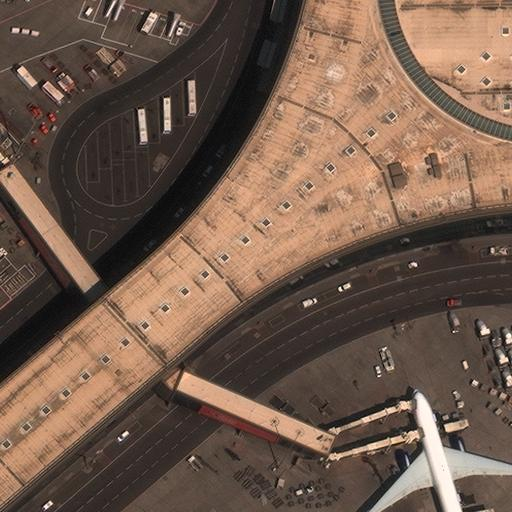Large Civil Transport: (365, 390, 511, 511)
